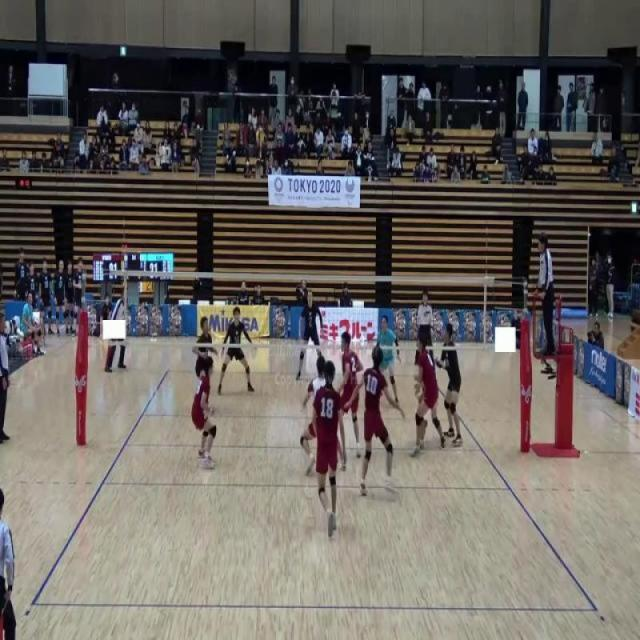volleyball: (256, 128, 264, 144)
